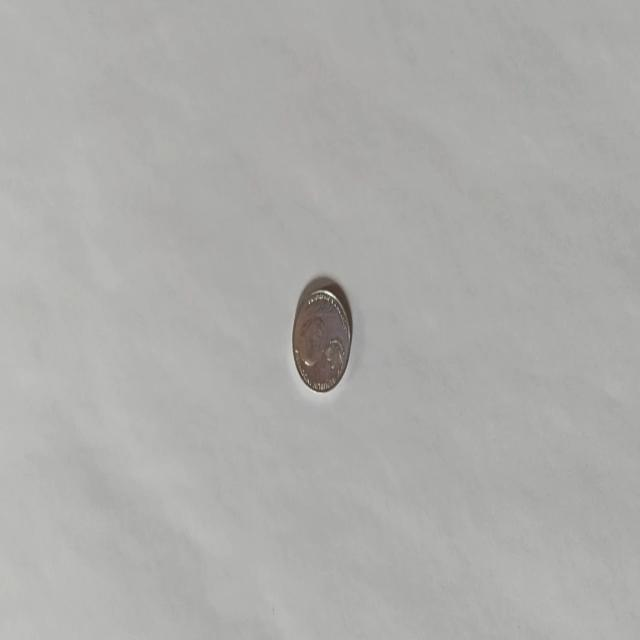lima ratus rupiah: (291, 280, 352, 394)
